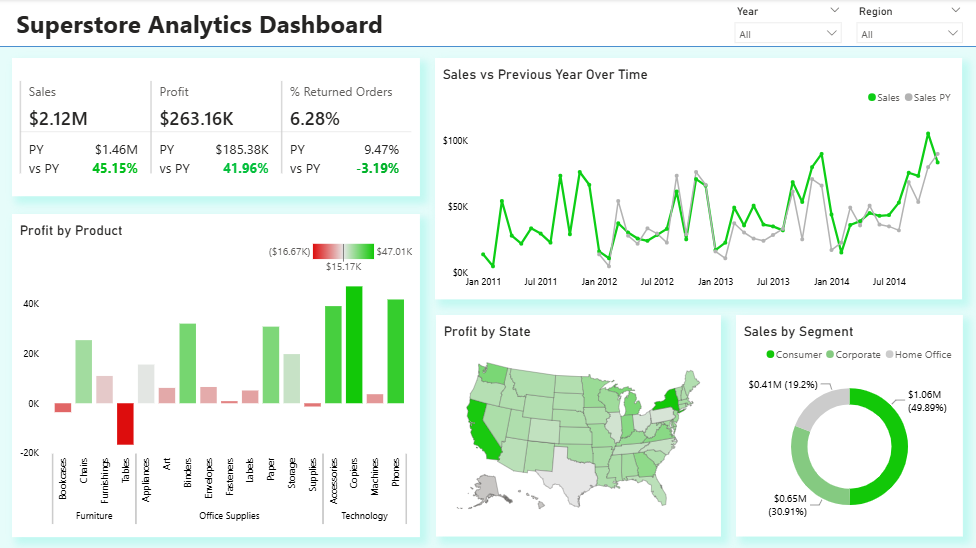

The dashboard page shown, as its layout file describes it:
{"tool":"powerbi","page":{"name":"Page 1","canvas":[1280,720],"ordinal":0},"visuals":[{"type":"cardVisual","fields":{"Data":["Key Measures.Sales","Key Measures.Profit","Key Measures.% Returned Orders"]},"box":[17.1,77.2,534.3,181.4],"z":0},{"type":"shape","box":[0,0,1280,62.9],"z":1000},{"type":"textbox","box":[0,4.3,1280,58.6],"z":2000},{"type":"lineChart","title":"Sales vs Previous Year Over Time","fields":{"Y":["Key Measures.Sales","Key Measures.Sales PY"],"Category":["DimDate.Start of month"]},"box":[570.9,77.3,690,316.4],"z":3000},{"type":"columnChart","title":"Profit by Product","fields":{"Category":["Orders.Category","Orders.Sub-Category"],"Y":["Sum(Orders.Profit)"]},"box":[17.1,281.5,534.3,422.9],"z":4000},{"type":"shapeMap","title":"Profit by State","fields":{"Value":["Key Measures.Profit"],"Category":["Orders.State"]},"box":[571.4,414.3,372.9,290],"z":5000},{"type":"donutChart","title":"Sales by Segment","fields":{"Y":["Key Measures.Sales"],"Category":["Orders.Segment"]},"box":[964.3,414.3,297.1,290],"z":6000},{"type":"slicer","fields":{"Values":["DimDate.Year"]},"box":[953,3,160,56],"z":7000},{"type":"slicer","fields":{"Values":["Orders.Region"]},"box":[1113,3,159,56],"z":8000}]}

Visuals, with their boxes in screenshot pixels (x1, y1, x2, y2), scaled from the page's 1280x720 canvas onto the 976x548 screenshot:
cardVisual - Key Measures.Sales x Key Measures.Profit: rect(13, 59, 420, 197)
shape: rect(0, 0, 975, 48)
textbox: rect(0, 3, 975, 48)
"Sales vs Previous Year Over Time" lineChart: rect(435, 59, 961, 300)
"Profit by Product" columnChart: rect(13, 214, 420, 536)
"Profit by State" shapeMap: rect(436, 315, 720, 536)
"Sales by Segment" donutChart: rect(735, 315, 962, 536)
slicer - DimDate.Year: rect(727, 2, 849, 45)
slicer - Orders.Region: rect(849, 2, 970, 45)
